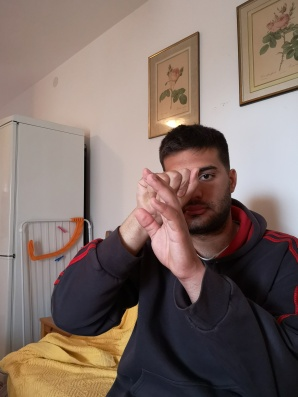A: (133, 164, 204, 219)
